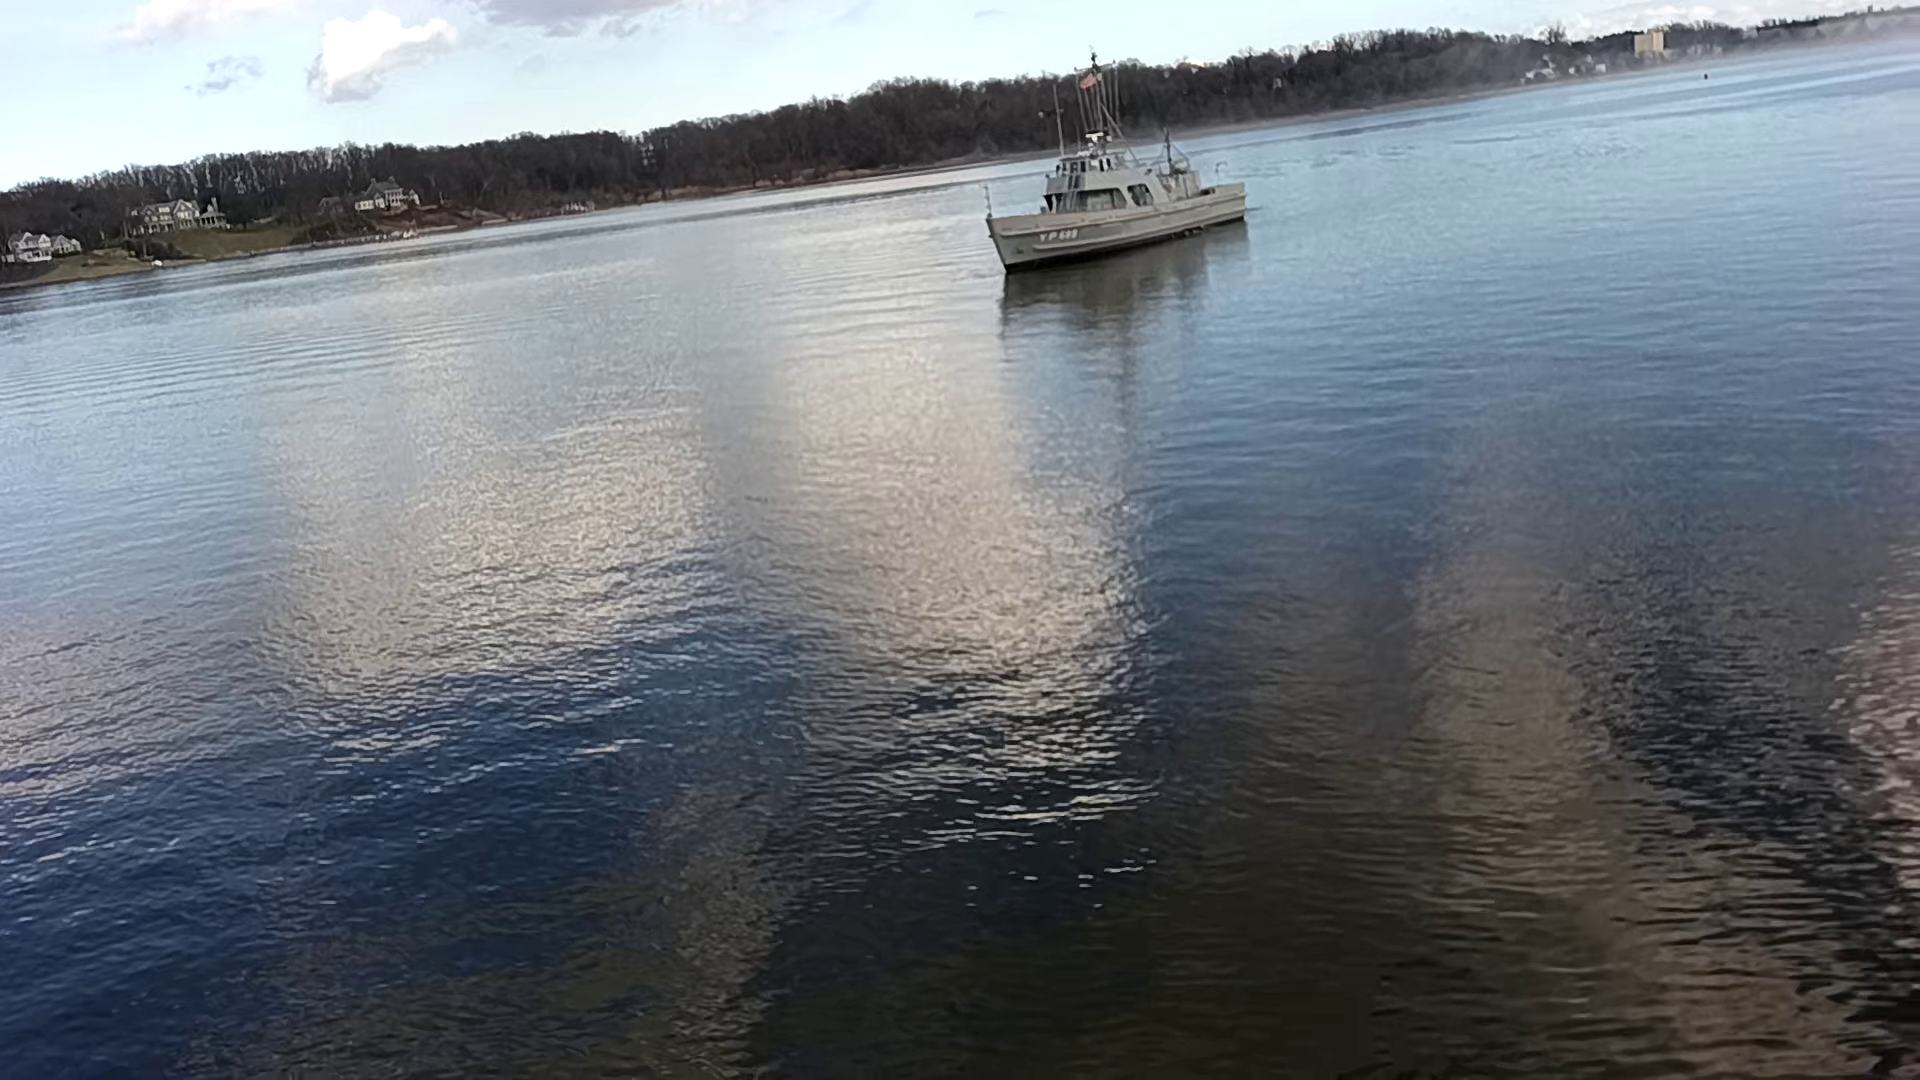YP689: (982, 49, 1247, 276)
